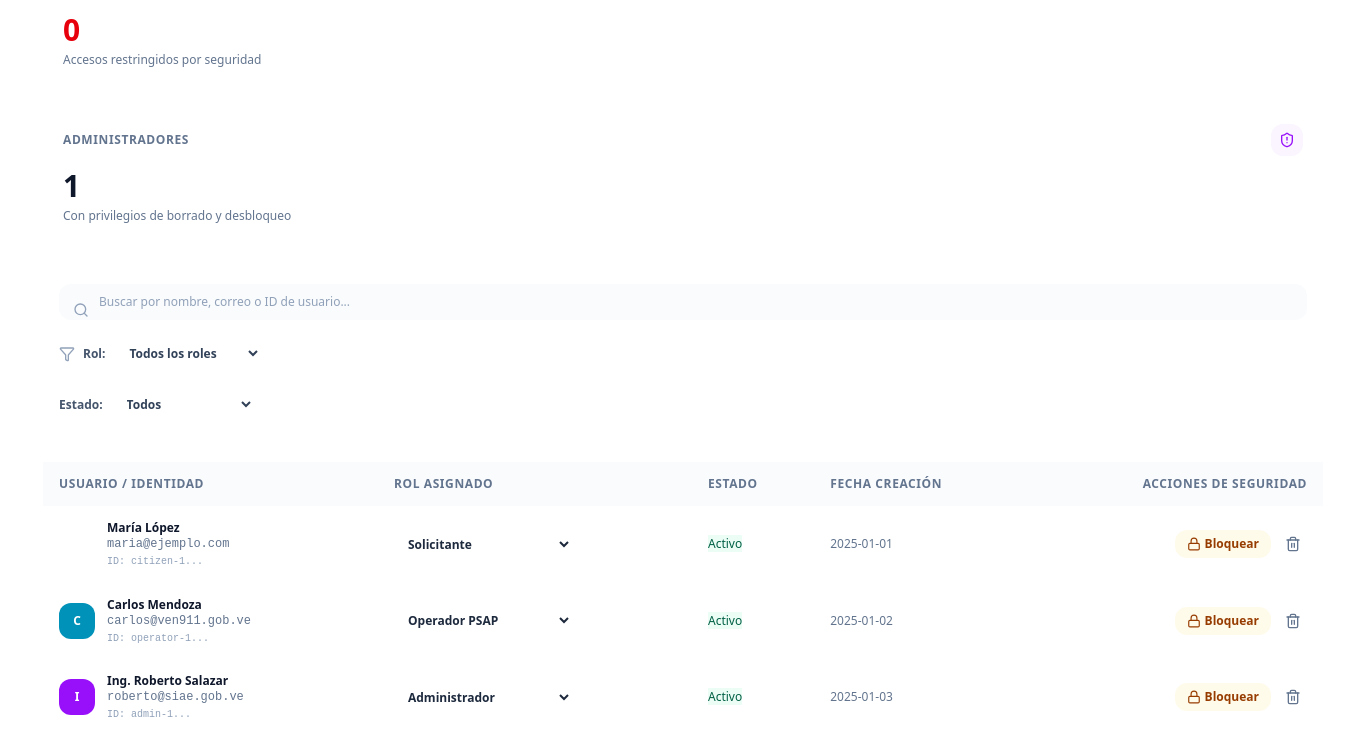
Test: Admin Users Page UI Component › allows filtering by role and status
(page scrolled)
Expected: the text "María López" is shown, [107,519,180,536]
Select "Administradores" in the dropdown named "filtrar por rol" at (187, 354), box [113,336,261,371]
(page scrolled)
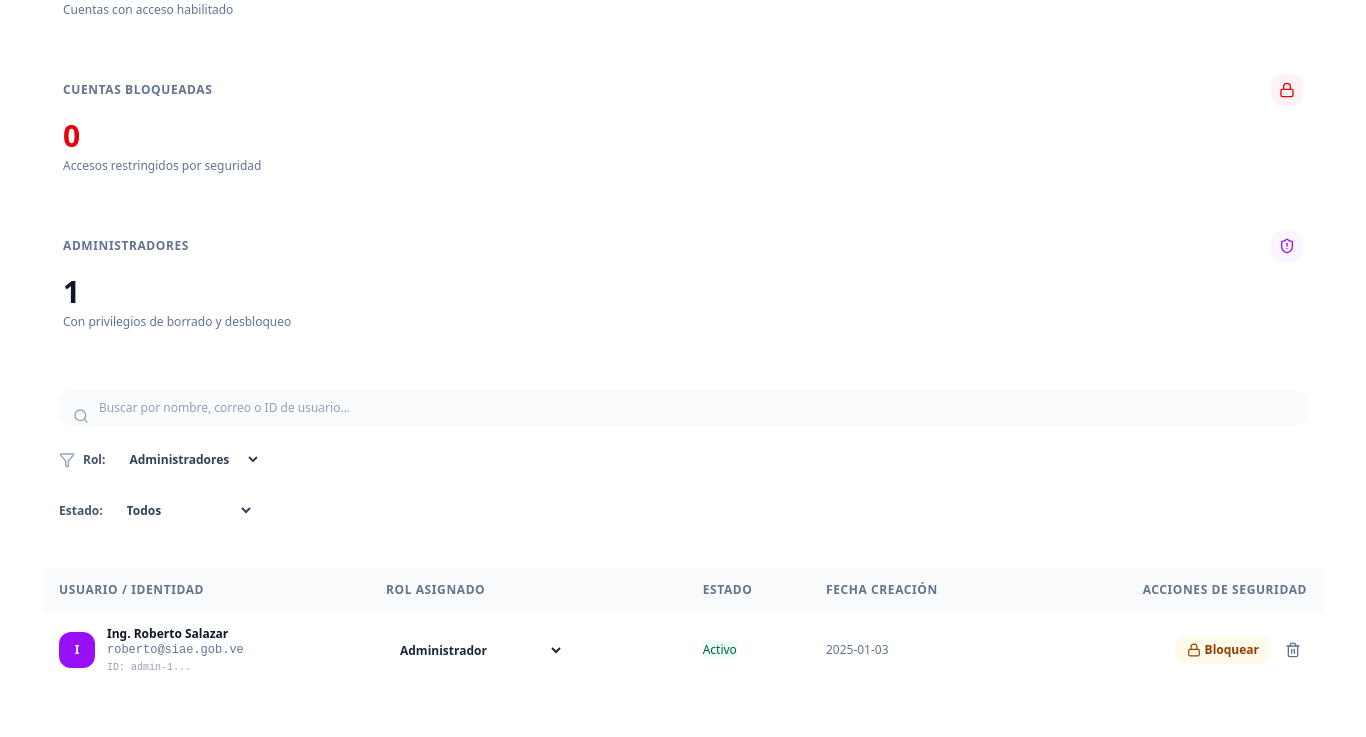
Expected: the text "Ing. Roberto Salazar" is shown, [107,626,244,642]
Expected: the text "María López" is gone
